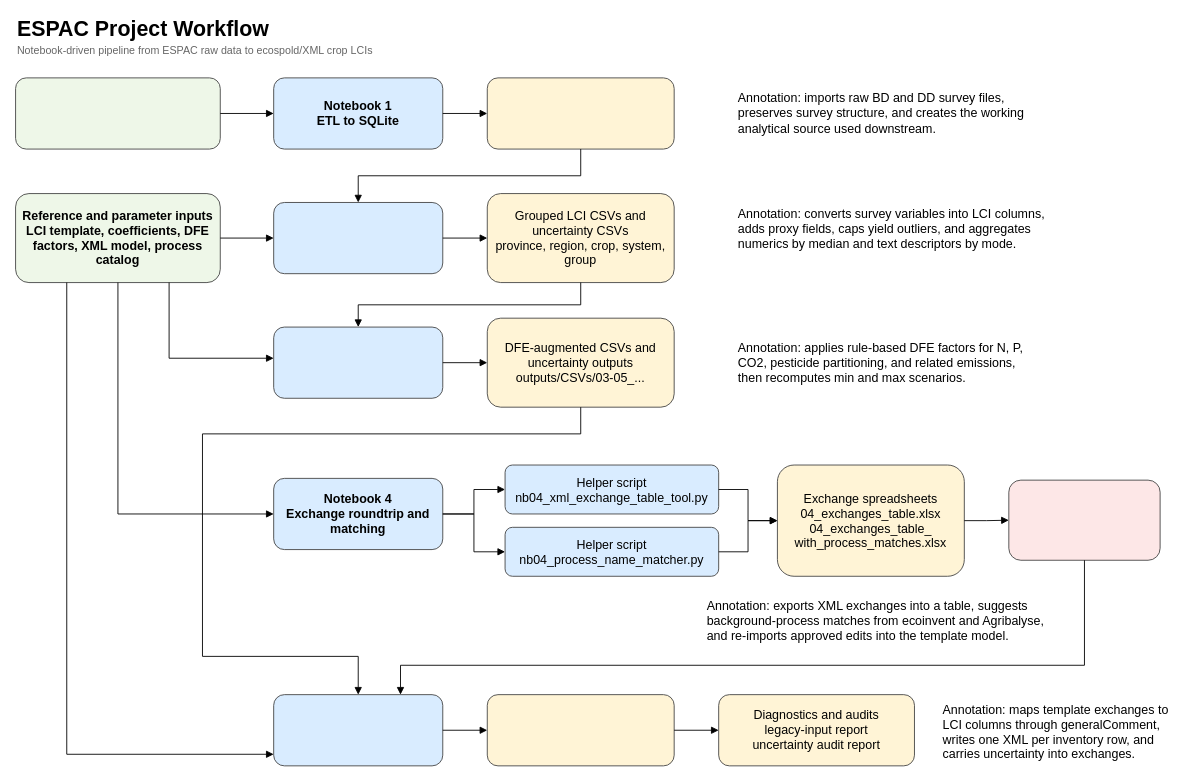
This 1197x781 diagram has some shape labels left out. The centre of each missing label's shape, as x and y in pixels:
"Final ecospold XML exports outputs/05_xml_exports_ crop_lci/..." belongs at pixel 580 730.
"Manual review and approval loop" belongs at pixel 1084 519.
"Notebook 2 LCI extraction and aggregation" belongs at pixel 358 238.
"Notebook 3 Direct field emissions" belongs at pixel 358 362.
"Notebook 5 XML generator" belongs at pixel 358 730.
"Raw ESPAC inputs inputs/01_2_DD_DATOS_ ABIERTOS_ESPAC_2024.zip" belongs at pixel 117 113.
"SQLite working DB outputs/01_espac_2024.sqlite" belongs at pixel 580 113.
